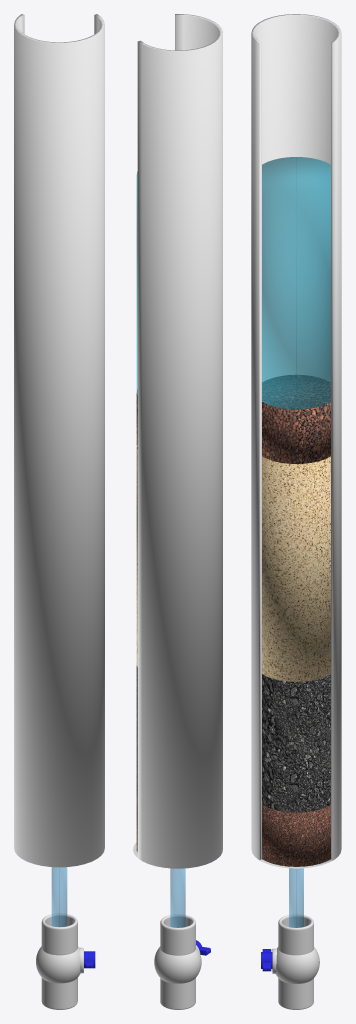
The model's file is rwl-001.glb.
3 renders of one model, left to right at view 1: azimuth 90°, elevation 25°; view 2: azimuth 150°, elevation 25°; view 3: azimuth 270°, elevation 25°, orthographic.
Visible parts, largest first — view 1: pipe, valve-top, valve-body, hose, valve-bottom; view 2: pipe, valve-top, valve-body, valve-bottom, hose, water, fine-sand, charcoal; view 3: pipe, water, fine-sand, charcoal, coarse-scoria, support-scoria, valve-top, valve-body, valve-bottom, hose, valve-handle.
Part boxes in pixels (left/top/right/bottom): pipe: left=14, top=14, right=104, bottom=867; valve-top: left=41, top=913, right=77, bottom=955; valve-body: left=36, top=946, right=80, bottom=983; hose: left=51, top=867, right=67, bottom=926; valve-bottom: left=41, top=977, right=77, bottom=1009; pipe: left=133, top=14, right=222, bottom=868; valve-top: left=160, top=914, right=195, bottom=955; valve-body: left=154, top=946, right=201, bottom=983; valve-bottom: left=160, top=978, right=195, bottom=1009; hose: left=170, top=868, right=185, bottom=927; water: left=136, top=171, right=137, bottom=394; fine-sand: left=136, top=448, right=137, bottom=667; charcoal: left=136, top=666, right=137, bottom=797; pipe: left=251, top=14, right=341, bottom=868; water: left=262, top=157, right=330, bottom=409; fine-sand: left=262, top=456, right=330, bottom=681; charcoal: left=262, top=674, right=330, bottom=812; coarse-scoria: left=262, top=375, right=330, bottom=463; support-scoria: left=262, top=805, right=330, bottom=866; valve-top: left=278, top=914, right=313, bottom=955; valve-body: left=275, top=947, right=319, bottom=983; valve-bottom: left=278, top=978, right=313, bottom=1009; hose: left=289, top=868, right=303, bottom=927; valve-handle: left=261, top=949, right=272, bottom=971.
Bounding box in the file's own units: 0.075 × 0.8909 × 0.075.
Materials: 12 (4 with a texture image).
